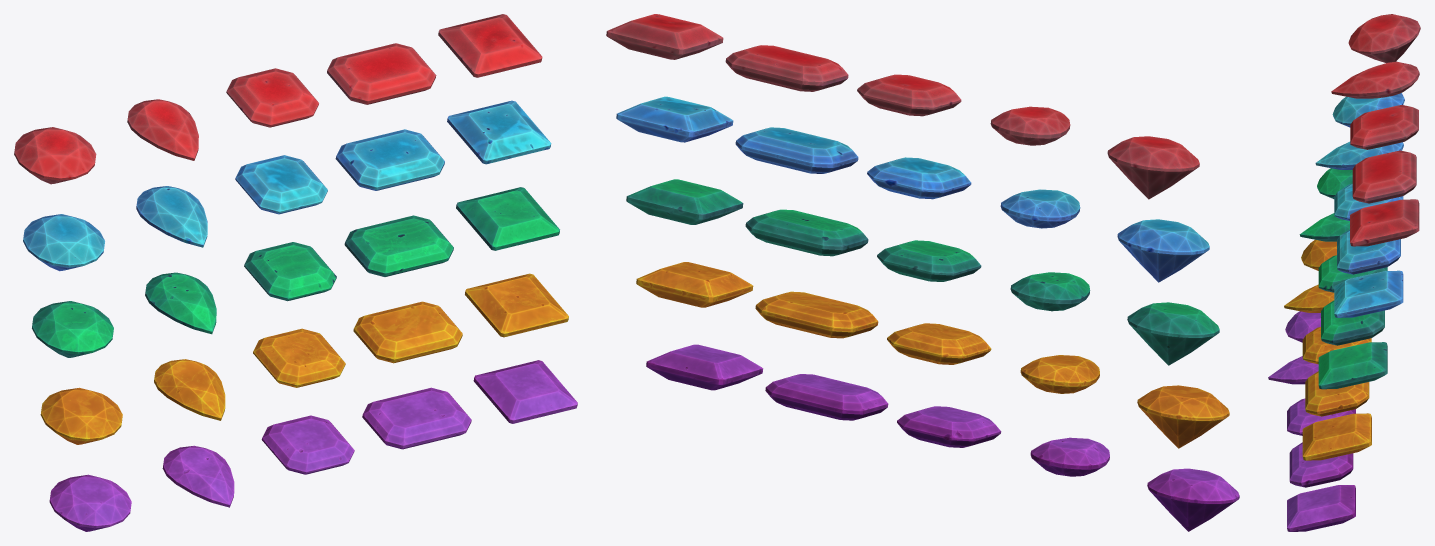
Rendered from gemstones.glb.
3 views of the same model, side by side, from view 1: azimuth 30°, elevation 25°; view 2: azimuth 150°, elevation 25°; view 3: azimuth 270°, elevation 25° (orthographic). The views are drawn at different scales.
Parts seen in each view (by area): view 1: Gemstone_04_15, Gemstone_04.004_19, Gemstone_04.001_16, Gemstone_04.002_17, Gemstone_04.003_18, Gemstone_05.004_24, Gemstone_05_20, Gemstone_05.003_23, Gemstone_05.001_21, Gemstone_05.002_22, Gemstone_03.003_13, Gemstone_03.001_11 (+13 smaller); view 2: Gemstone_04.002_17, Gemstone_04.001_16, Gemstone_04_15, Gemstone_04.004_19, Gemstone_04.003_18, Gemstone_01.002_2, Gemstone_01.001_1, Gemstone_01.003_3, Gemstone_01.004_4, Gemstone_01_0, Gemstone_05_20, Gemstone_05.003_23 (+13 smaller); view 3: Gemstone_04.004_19, Gemstone_05.001_21, Gemstone_05.004_24, Gemstone_05.002_22, Gemstone_05.003_23, Gemstone_05_20, Gemstone_01.004_4, Gemstone_03.004_14, Gemstone_02.004_9, Gemstone_04.003_18, Gemstone_04.002_17, Gemstone_04.001_16 (+13 smaller).
Part boxes in pixels (left/top/right/bottom): Gemstone_04_15: left=362, top=387, right=471, bottom=449; Gemstone_04.004_19: left=327, top=43, right=436, bottom=104; Gemstone_04.001_16: left=353, top=301, right=462, bottom=363; Gemstone_04.002_17: left=344, top=215, right=453, bottom=276; Gemstone_04.003_18: left=335, top=129, right=444, bottom=190; Gemstone_05.004_24: left=438, top=14, right=542, bottom=77; Gemstone_05_20: left=473, top=360, right=577, bottom=423; Gemstone_05.003_23: left=447, top=100, right=551, bottom=164; Gemstone_05.001_21: left=465, top=273, right=568, bottom=337; Gemstone_05.002_22: left=456, top=187, right=559, bottom=250; Gemstone_03.003_13: left=235, top=155, right=327, bottom=214; Gemstone_03.001_11: left=253, top=328, right=345, bottom=387; Gemstone_04.002_17: left=745, top=209, right=868, bottom=256; Gemstone_04.001_16: left=755, top=291, right=878, bottom=338; Gemstone_04_15: left=765, top=374, right=888, bottom=420; Gemstone_04.004_19: left=725, top=45, right=848, bottom=91; Gemstone_04.003_18: left=735, top=127, right=858, bottom=173; Gemstone_01.002_2: left=1127, top=302, right=1219, bottom=365; Gemstone_01.001_1: left=1137, top=385, right=1229, bottom=448; Gemstone_01.003_3: left=1117, top=219, right=1209, bottom=282; Gemstone_01.004_4: left=1107, top=136, right=1199, bottom=199; Gemstone_01_0: left=1147, top=468, right=1239, bottom=531; Gemstone_05_20: left=646, top=344, right=763, bottom=390; Gemstone_05.003_23: left=616, top=96, right=733, bottom=142; Gemstone_04.004_19: left=1352, top=150, right=1416, bottom=203; Gemstone_05.001_21: left=1302, top=413, right=1371, bottom=460; Gemstone_05.004_24: left=1350, top=199, right=1419, bottom=246; Gemstone_05.002_22: left=1318, top=342, right=1387, bottom=389; Gemstone_05.003_23: left=1334, top=270, right=1403, bottom=317; Gemstone_05_20: left=1287, top=485, right=1355, bottom=531; Gemstone_01.004_4: left=1348, top=14, right=1420, bottom=62; Gemstone_03.004_14: left=1350, top=105, right=1418, bottom=149; Gemstone_02.004_9: left=1331, top=61, right=1419, bottom=98; Gemstone_04.003_18: left=1337, top=229, right=1400, bottom=274; Gemstone_04.002_17: left=1321, top=300, right=1384, bottom=345; Gemstone_04.001_16: left=1305, top=371, right=1369, bottom=416.
Size of the model in its own units: 6.58 by 4.66 by 1.93.
5 materials, 5 textured.
